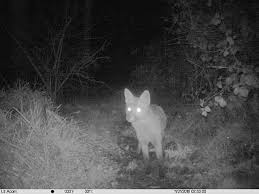fox: (111, 80, 180, 177)
